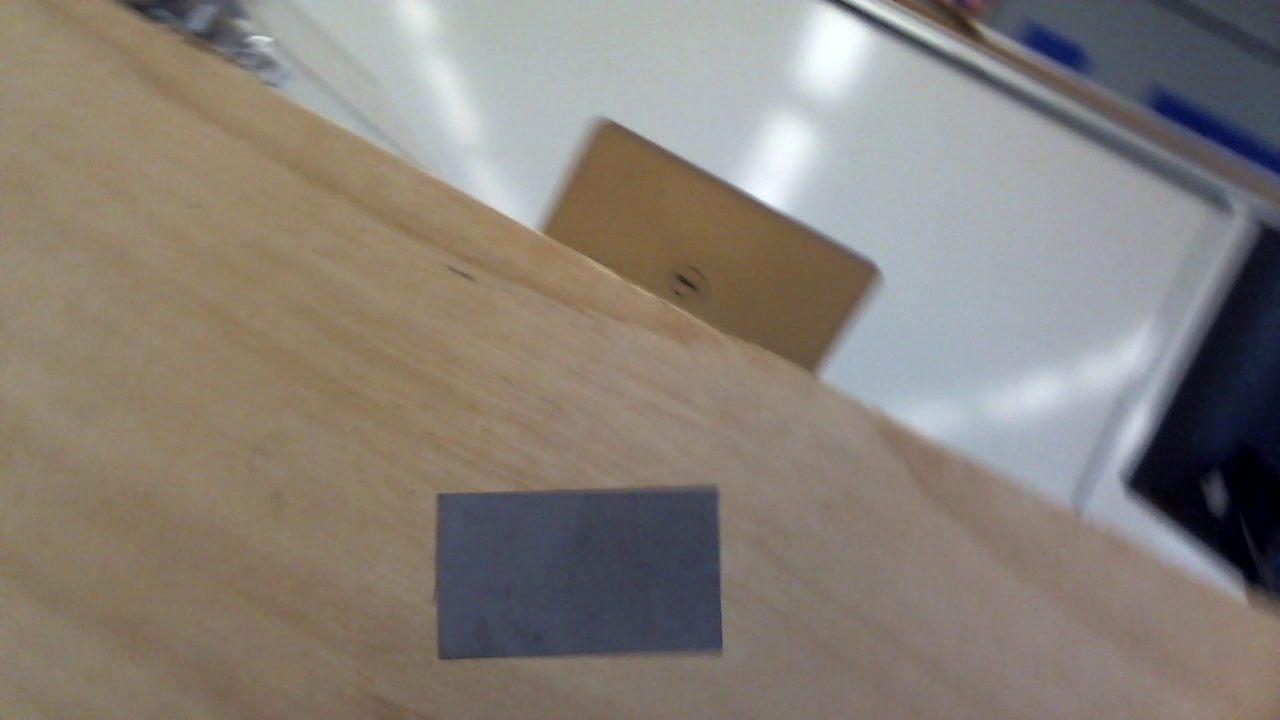Tape: (435, 488, 728, 660)
